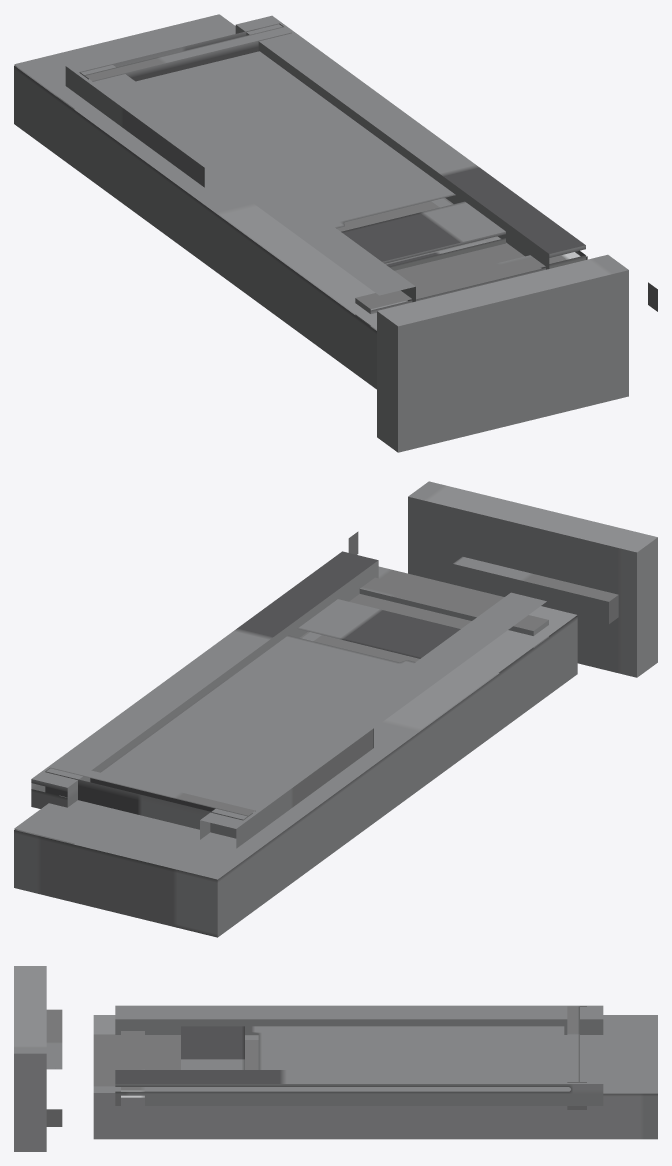
The picture shows the model from 3 angles, top to bottom: view 1: azimuth 30°, elevation 25°; view 2: azimuth 150°, elevation 25°; view 3: azimuth 270°, elevation 25°; orthographic projection. The views are drawn at different scales.
Size of the model in its own units: 0.4924 by 0.2116 by 1.26.
